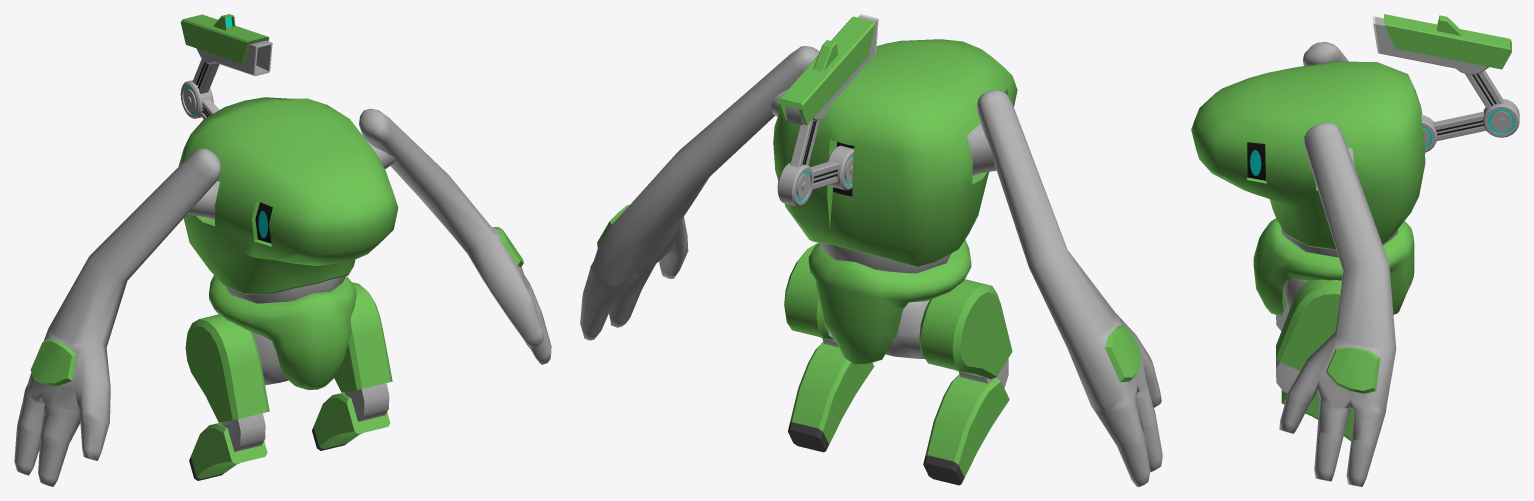
The model's file is Jump_02.fbx.
3 renders of one model, left to right at view 1: azimuth 30°, elevation 25°; view 2: azimuth 150°, elevation 25°; view 3: azimuth 270°, elevation 25°, orthographic. The views are drawn at different scales.
Parts seen in each view (by area): view 1: atama3, L_ude3, L_ude4, kosi2, L_asi7, L_asi10, pCylinder17, L_asi9, L_asi8, pCylinder19; view 2: atama3, L_ude3, L_ude4, kosi2, L_asi7, L_asi8, pCylinder17, L_asi9, L_asi10, pCylinder19, pCylinder18, pCylinder16; view 3: atama3, L_ude4, kosi2, pCylinder17, L_asi10, pCylinder19, pCylinder15, L_ude3, pCylinder18, L_asi9, pCylinder16.
Boxes of the visible parts, x1,y1,x2,y2 form: atama3: (178, 97, 398, 303); L_ude3: (14, 148, 220, 486); L_ude4: (359, 108, 551, 364); kosi2: (209, 275, 356, 389); L_asi7: (185, 314, 269, 451); L_asi10: (334, 282, 392, 421); pCylinder17: (181, 14, 272, 76); L_asi9: (312, 392, 390, 450); L_asi8: (189, 422, 267, 480); pCylinder19: (180, 80, 213, 118); atama3: (770, 39, 1017, 273); L_ude3: (977, 90, 1162, 486); L_ude4: (580, 46, 819, 340); kosi2: (808, 239, 971, 364); L_asi7: (919, 279, 1012, 387); L_asi8: (923, 374, 1009, 485); pCylinder17: (777, 14, 878, 125); L_asi9: (788, 342, 874, 452); L_asi10: (784, 243, 838, 347); pCylinder19: (777, 162, 813, 206); pCylinder18: (790, 120, 819, 167); pCylinder16: (827, 145, 853, 190); atama3: (1191, 61, 1425, 257); L_ude4: (1279, 122, 1396, 486); kosi2: (1253, 218, 1414, 315); pCylinder17: (1373, 14, 1511, 74); L_asi10: (1276, 279, 1341, 393); pCylinder19: (1483, 99, 1519, 137); pCylinder15: (1433, 111, 1485, 140); L_ude3: (1303, 41, 1348, 65); pCylinder18: (1465, 70, 1503, 109); L_asi9: (1281, 390, 1354, 440); pCylinder16: (1421, 115, 1437, 152).
Bounding box in the file's own units: 3.99 × 3.05 × 2.29.
